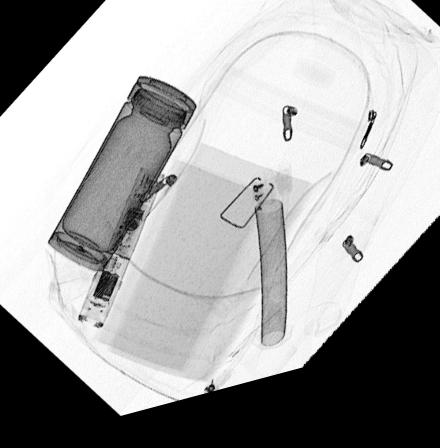Baton: (77, 174, 166, 336)
